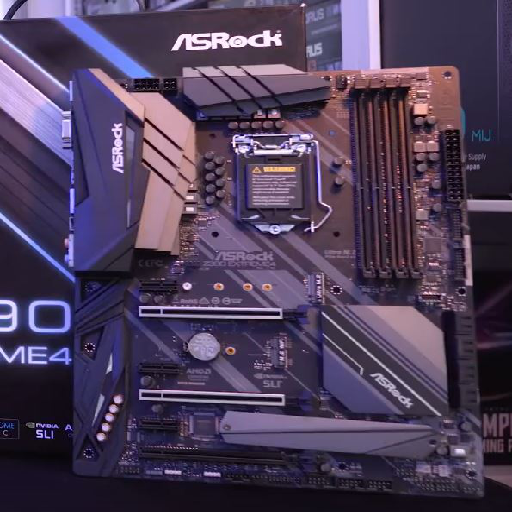CPU: (234, 134, 313, 234)
GPU: (138, 389, 316, 414), (137, 303, 310, 323)
MOTHERBOARD: (64, 67, 486, 500)
RAM: (351, 75, 422, 280)
SSD: (306, 272, 326, 306), (271, 335, 291, 369)
